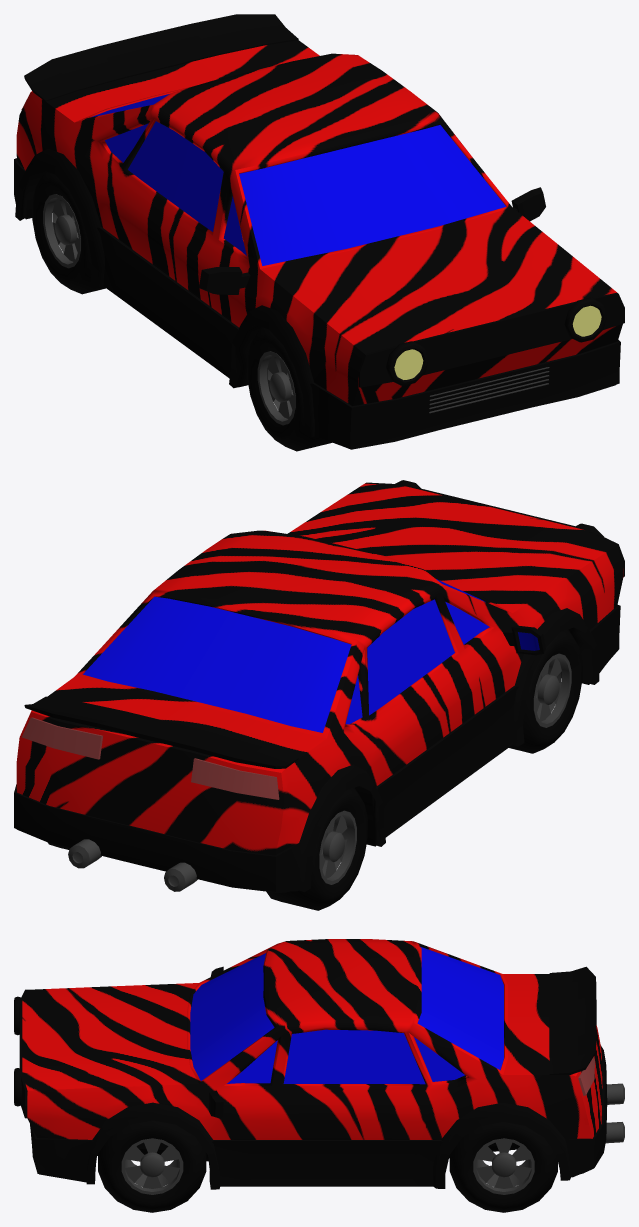
The model's file is Muscle Evolution2 Black ZebraBlackRed Blue DarkGrey.glb.
The picture shows the model from 3 angles, top to bottom: view 1: azimuth 30°, elevation 25°; view 2: azimuth 150°, elevation 25°; view 3: azimuth 270°, elevation 25°; orthographic projection. The views are drawn at different scales.
Visible parts, largest first — view 1: evo2_body2_f1_dupl, evo2_frontGlass_f1_dupl, evo2_sill2_f1_dupl, evo2_spoiler2_f1_dupl, evo2_front_square2_f1_dupl, evo2_glasseBigR_f1_dupl, evo2_mudguardFR_f1_dupl, evo2_mudguardbR_f1_dupl, evo2_tire_rf1_f1_dupl, evo2_tire_rf_f1_dupl, evo2_rim_A_rf_f1_dupl, evo2_rim_A_rb_f1_dupl (+9 smaller); view 2: evo2_body2_f1_dupl, evo2_BackGlassGlass_f1_dupl, evo2_sill2_f1_dupl, evo2_spoiler2_f1_dupl, evo2_glasseBigR_f1_dupl, evo2_tire_rf_f1_dupl, evo2_mudguardbR_f1_dupl, evo2_mudguardFR_f1_dupl, evo2_tire_rf1_f1_dupl, evo2_rim_A_rf_f1_dupl, evo2_rim_A_rb_f1_dupl, evo2_redlightR2_f1_dupl (+5 smaller); view 3: evo2_body2_f1_dupl, evo2_sill2_f1_dupl, evo2_BackGlassGlass_f1_dupl, evo2_glasseBigL_f1_dupl, evo2_frontGlass_f1_dupl, evo2_tire_lf_f1_dupl, evo2_tire_lb_f1_dupl, evo2_spoiler2_f1_dupl, evo2_mudguardBL_f1_dupl, evo2_mudguardFL_f1_dupl, evo2_rim_A_lf_f1_dupl, evo2_rim_A_lb_f1_dupl (+4 smaller).
Part boxes in pixels (x1=…): evo2_body2_f1_dupl: x1=16, y1=40, x2=622, y2=405; evo2_frontGlass_f1_dupl: x1=239, y1=125, x2=505, y2=265; evo2_sill2_f1_dupl: x1=14, y1=158, x2=620, y2=449; evo2_spoiler2_f1_dupl: x1=24, y1=14, x2=298, y2=101; evo2_front_square2_f1_dupl: x1=358, y1=292, x2=624, y2=387; evo2_glasseBigR_f1_dupl: x1=128, y1=121, x2=223, y2=231; evo2_mudguardFR_f1_dupl: x1=229, y1=305, x2=314, y2=437; evo2_mudguardbR_f1_dupl: x1=15, y1=148, x2=104, y2=286; evo2_tire_rf1_f1_dupl: x1=247, y1=327, x2=331, y2=451; evo2_tire_rf_f1_dupl: x1=32, y1=171, x2=105, y2=294; evo2_rim_A_rf_f1_dupl: x1=257, y1=351, x2=295, y2=425; evo2_rim_A_rb_f1_dupl: x1=43, y1=194, x2=80, y2=268; evo2_body2_f1_dupl: x1=16, y1=483, x2=623, y2=855; evo2_BackGlassGlass_f1_dupl: x1=83, y1=596, x2=351, y2=732; evo2_sill2_f1_dupl: x1=14, y1=605, x2=620, y2=891; evo2_spoiler2_f1_dupl: x1=24, y1=696, x2=298, y2=768; evo2_glasseBigR_f1_dupl: x1=367, y1=599, x2=454, y2=715; evo2_tire_rf_f1_dupl: x1=266, y1=787, x2=367, y2=910; evo2_mudguardbR_f1_dupl: x1=299, y1=764, x2=385, y2=891; evo2_mudguardFR_f1_dupl: x1=512, y1=608, x2=599, y2=746; evo2_tire_rf1_f1_dupl: x1=509, y1=629, x2=582, y2=753; evo2_rim_A_rf_f1_dupl: x1=533, y1=653, x2=571, y2=727; evo2_rim_A_rb_f1_dupl: x1=319, y1=810, x2=356, y2=884; evo2_redlightR2_f1_dupl: x1=191, y1=758, x2=279, y2=799; evo2_body2_f1_dupl: x1=22, y1=939, x2=602, y2=1159; evo2_sill2_f1_dupl: x1=30, y1=1045, x2=607, y2=1186; evo2_BackGlassGlass_f1_dupl: x1=417, y1=946, x2=503, y2=1070; evo2_glasseBigL_f1_dupl: x1=283, y1=1029, x2=425, y2=1084; evo2_frontGlass_f1_dupl: x1=190, y1=953, x2=274, y2=1080; evo2_tire_lf_f1_dupl: x1=98, y1=1120, x2=206, y2=1212; evo2_tire_lb_f1_dupl: x1=449, y1=1122, x2=557, y2=1212; evo2_spoiler2_f1_dupl: x1=549, y1=966, x2=596, y2=1074; evo2_mudguardBL_f1_dupl: x1=433, y1=1102, x2=570, y2=1188; evo2_mudguardFL_f1_dupl: x1=86, y1=1102, x2=220, y2=1189; evo2_rim_A_lf_f1_dupl: x1=121, y1=1138, x2=183, y2=1194; evo2_rim_A_lb_f1_dupl: x1=473, y1=1138, x2=534, y2=1194.
Bounding box in the file's own units: 177 × 112 × 331.
Materials: 7 (1 with a texture image).
